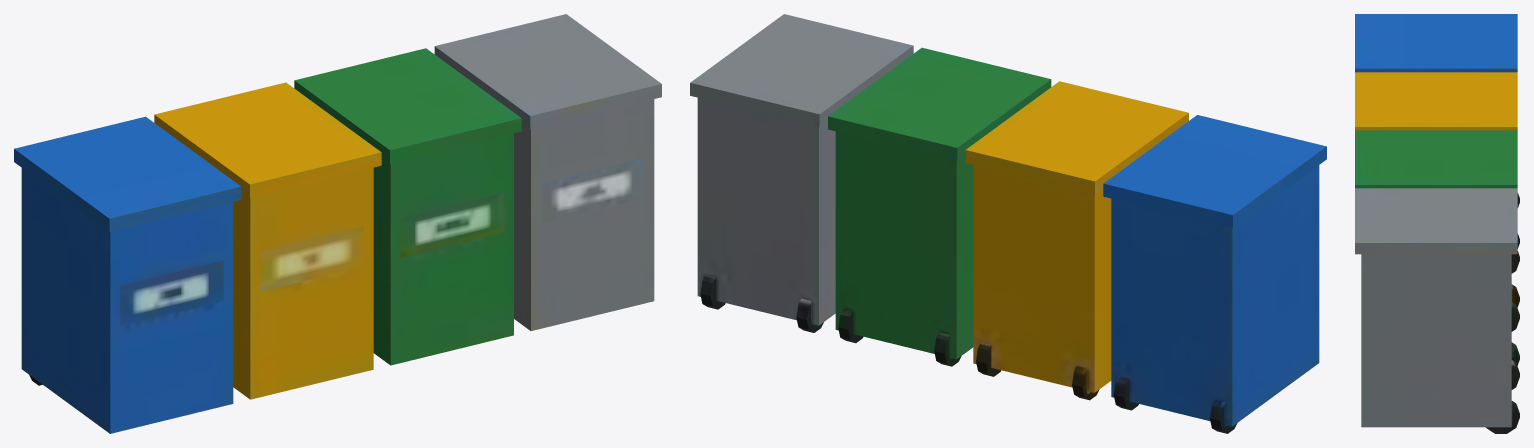
Rendered from detail_recycleBins.glb.
The picture shows the model from 3 angles, left to right: view 1: azimuth 30°, elevation 25°; view 2: azimuth 150°, elevation 25°; view 3: azimuth 270°, elevation 25°; orthographic projection. The views are drawn at different scales.
Visible parts, largest first — view 1: detail_recycleBins_LOD0; view 2: detail_recycleBins_LOD0; view 3: detail_recycleBins_LOD0.
Part boxes in pixels (x1,y1,x2,y2): detail_recycleBins_LOD0: [14, 14, 661, 433]; detail_recycleBins_LOD0: [690, 14, 1326, 433]; detail_recycleBins_LOD0: [1355, 14, 1519, 433].
Size of what is drawn, in the model's own units: 2.6 by 1.04 by 0.7905.
Materials: 1 (1 with a texture image).
